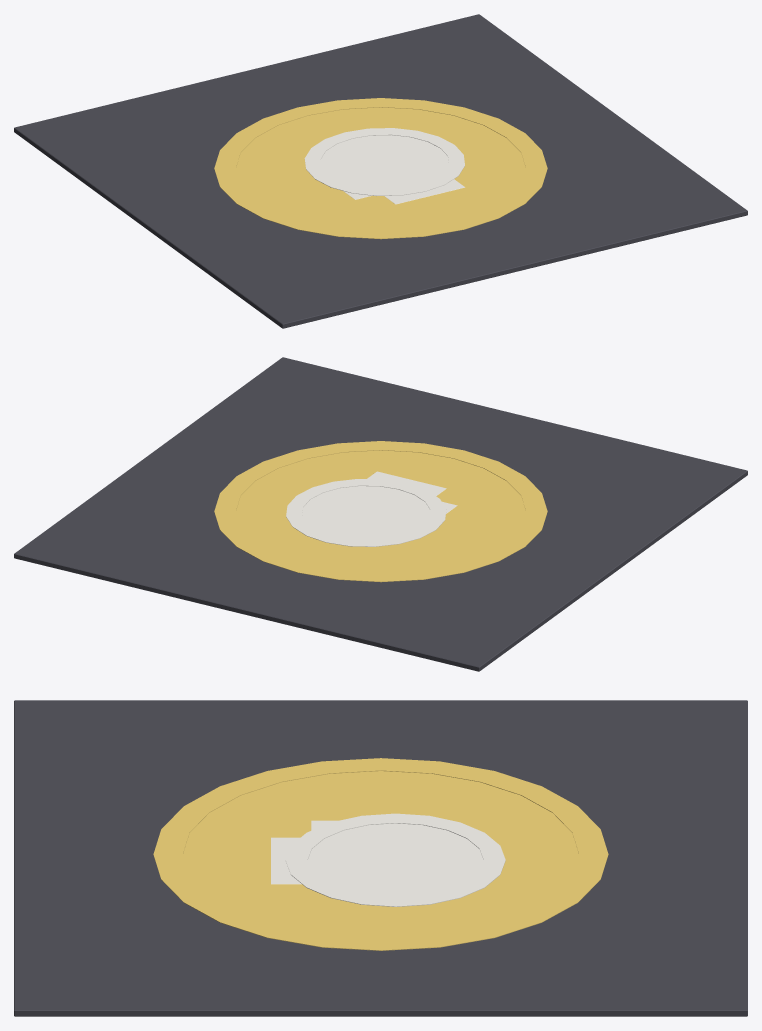
File: cinema-multiplex-and-foyer-wheelchair-space-tile-a6a67a60__34657.glb
3 renders of one model, top to bottom at view 1: azimuth 30°, elevation 25°; view 2: azimuth 150°, elevation 25°; view 3: azimuth 270°, elevation 25°, orthographic. The views are drawn at different scales.
Parts seen in each view (by area): view 1: wheelchair-space-tile; view 2: wheelchair-space-tile; view 3: wheelchair-space-tile.
Part boxes in pixels (x1=…): wheelchair-space-tile: x1=14, y1=14, x2=747, y2=328; wheelchair-space-tile: x1=14, y1=357, x2=747, y2=671; wheelchair-space-tile: x1=14, y1=700, x2=747, y2=1016.
Size of the model in its own units: 2 by 0.024 by 2.
